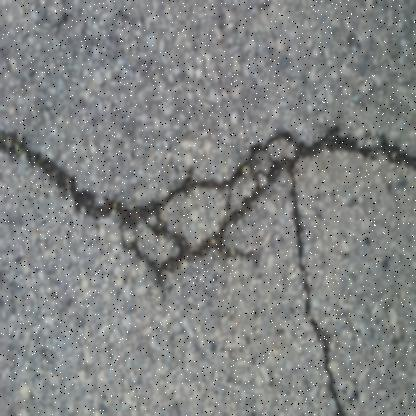Cracks: (0, 117, 415, 289), (277, 126, 347, 416)
